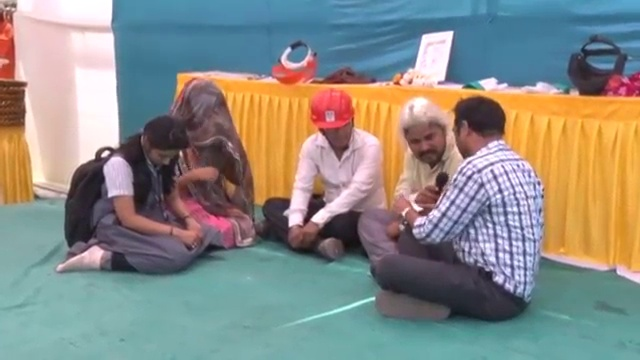helmet: (303, 89, 358, 129)
helmet_off: (449, 96, 510, 164), (175, 81, 234, 150), (395, 99, 453, 164), (132, 114, 191, 171)
helmet_on: (302, 91, 359, 150)
person: (372, 86, 543, 322), (55, 110, 209, 277), (252, 79, 390, 260), (357, 95, 464, 259), (161, 74, 258, 245)
